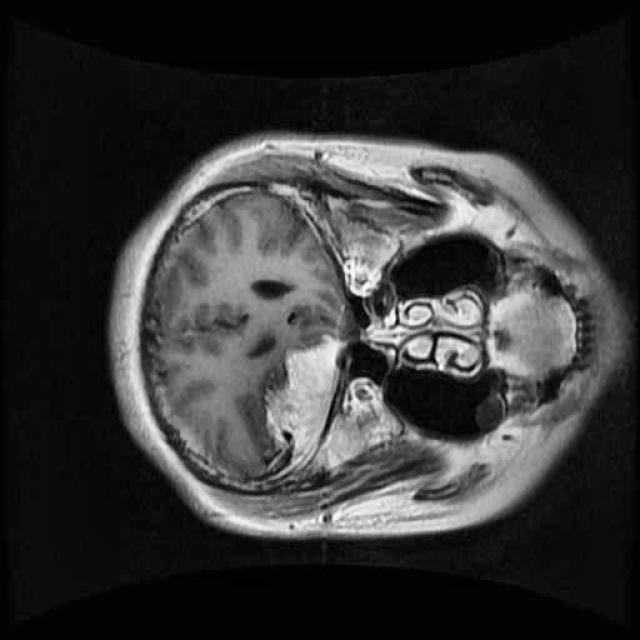Tumor: (251, 325, 346, 478)
